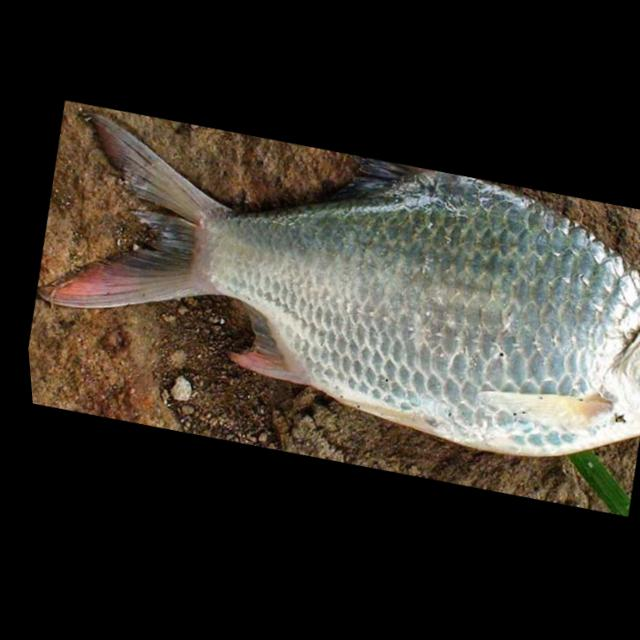fish: (9, 85, 640, 510)
